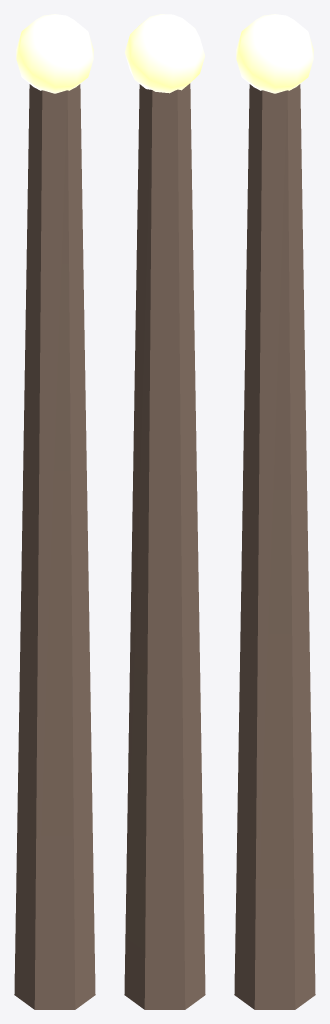
File: mountains.glb
3 views of the same model, side by side, from view 1: azimuth 90°, elevation 25°; view 2: azimuth 210°, elevation 25°; view 3: azimuth 270°, elevation 25° (orthographic).
Visible parts, largest first — view 1: LOD0._color_rgb_165_139_122_emissive_n, LOD0._color_fff1c2_emissive_ffd27a_; view 2: LOD0._color_rgb_165_139_122_emissive_n, LOD0._color_fff1c2_emissive_ffd27a_; view 3: LOD0._color_rgb_165_139_122_emissive_n, LOD0._color_fff1c2_emissive_ffd27a_.
Boxes of the visible parts, bbox=[...] form: LOD0._color_rgb_165_139_122_emissive_n: bbox=[14, 84, 95, 1009]; LOD0._color_fff1c2_emissive_ffd27a_: bbox=[16, 14, 93, 93]; LOD0._color_rgb_165_139_122_emissive_n: bbox=[124, 83, 205, 1009]; LOD0._color_fff1c2_emissive_ffd27a_: bbox=[124, 14, 204, 93]; LOD0._color_rgb_165_139_122_emissive_n: bbox=[234, 84, 315, 1009]; LOD0._color_fff1c2_emissive_ffd27a_: bbox=[236, 14, 313, 93].
Size of what is drawn, in the model's own units: 32 by 426 by 32.01.
